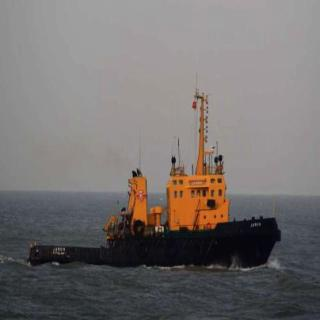Tug Boat: (29, 95, 285, 267)
